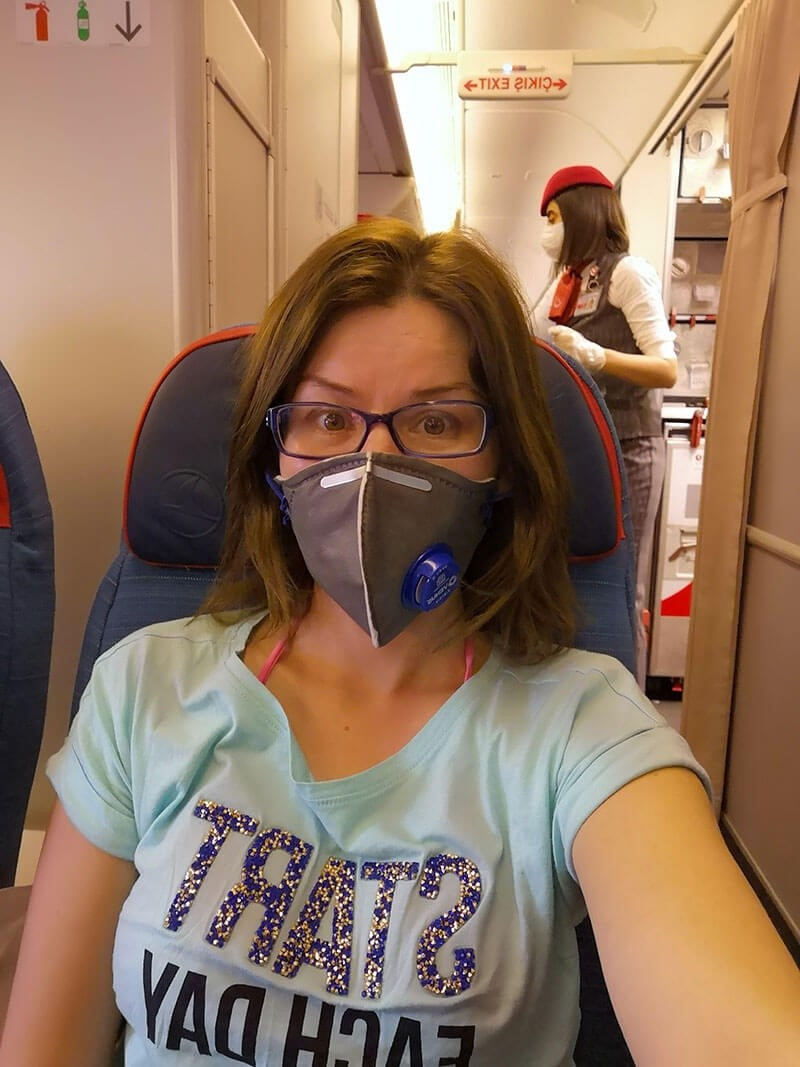face_with_mask: (249, 221, 537, 653), (537, 164, 626, 268)
